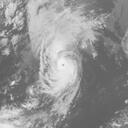cyclone: (40, 45, 84, 97)
